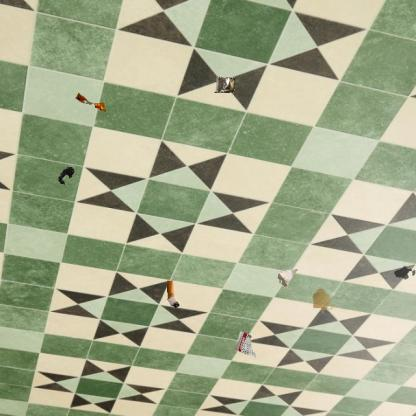dirty: (73, 91, 106, 114), (232, 330, 258, 358), (276, 267, 301, 289), (165, 278, 181, 310), (56, 164, 77, 188), (214, 75, 235, 93)
liquid: (311, 287, 336, 314), (392, 264, 416, 280)
